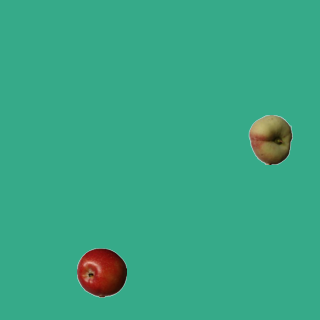Apple Braeburn: (76, 247, 126, 297)
Peach Flat: (245, 114, 295, 164)
